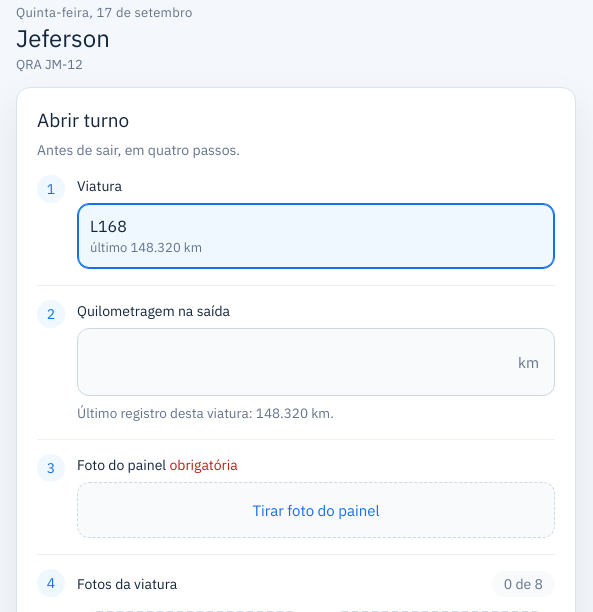
Test: odometro menor que o ultimo registro da viatura pede conferencia
In the field labelled "Quilometragem na saída": (316, 362) [77,328,555,396], type "14832"
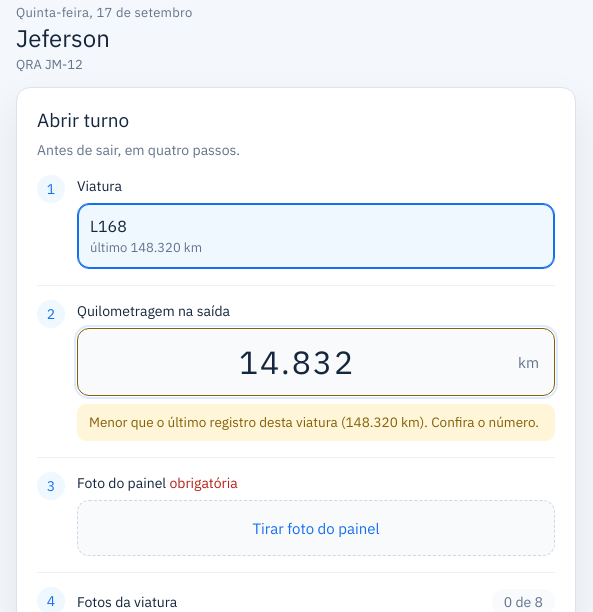
Expected: the message shows "Menor que o último registro", [89,413,539,431]
